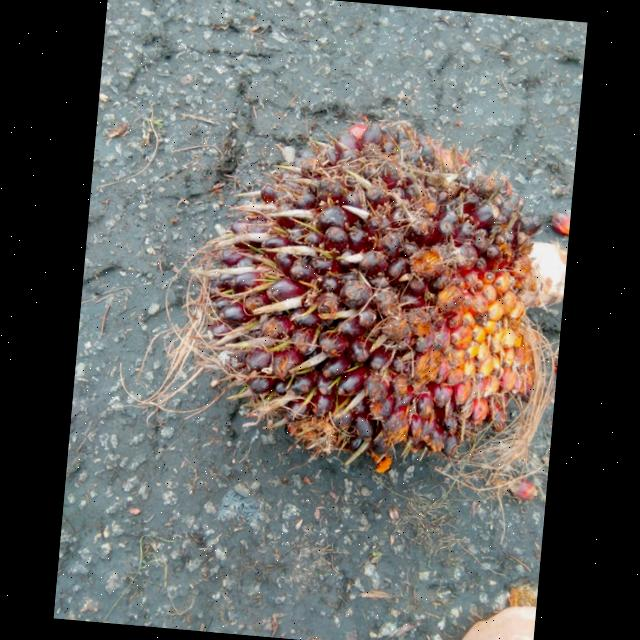Unripe: (198, 130, 565, 463)
